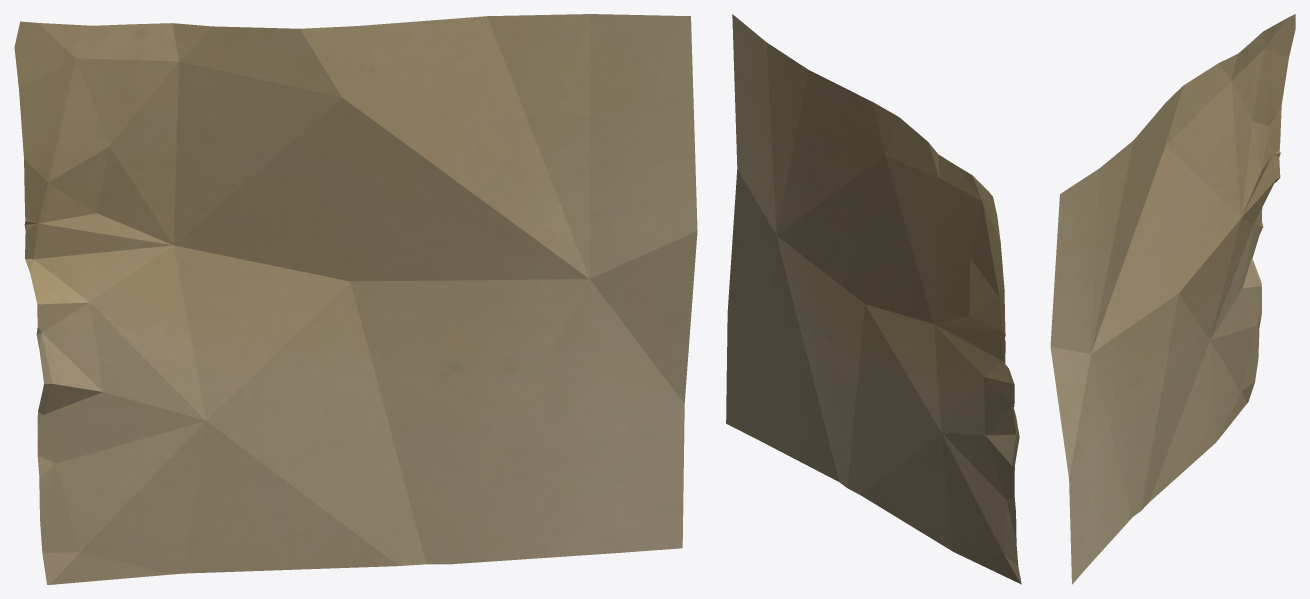
3 views of the same model, side by side, from view 1: azimuth 30°, elevation 25°; view 2: azimuth 150°, elevation 25°; view 3: azimuth 270°, elevation 25° (orthographic). The views are drawn at different scales.
Size of the model in its own units: 1.67 by 1.67 by 0.9516.
Materials: 3 (3 with a texture image).
